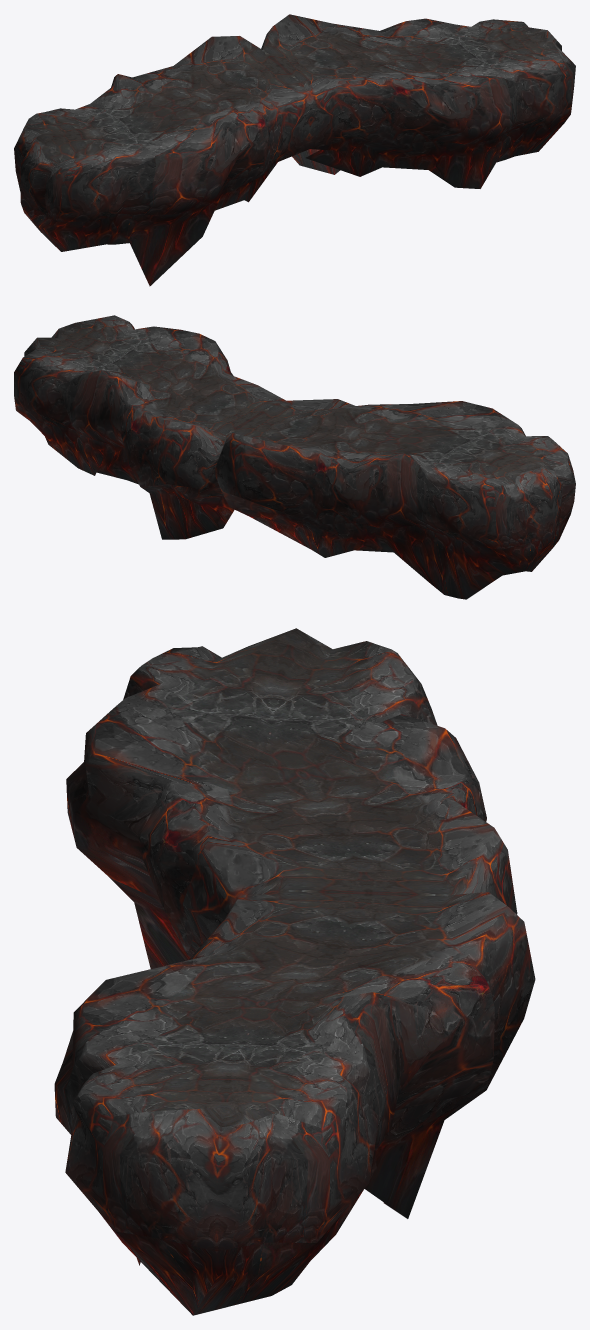
Rendered from 10504_LavaStone02.FBX.
The picture shows the model from 3 angles, top to bottom: view 1: azimuth 30°, elevation 25°; view 2: azimuth 150°, elevation 25°; view 3: azimuth 270°, elevation 25°; orthographic projection. The views are drawn at different scales.
Parts seen in each view (by area): view 1: Line024; view 2: Line024; view 3: Line024.
Boxes of the visible parts, <box> form: Line024: <box>14,14,575,286</box>; Line024: <box>14,315,575,599</box>; Line024: <box>54,628,535,1315</box>.
Bounding box in the file's own units: 2505 × 692 × 991.
